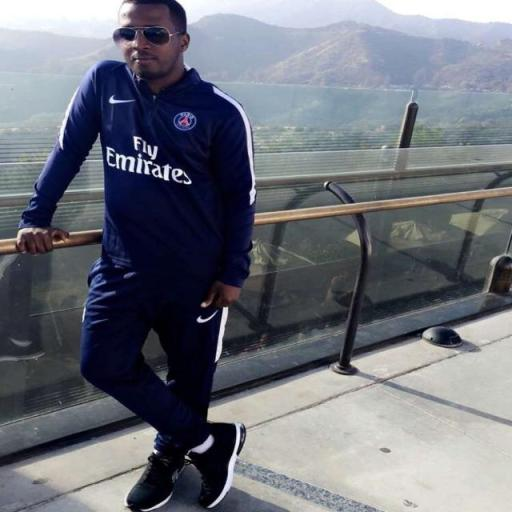Emirates: (103, 134, 193, 187)
